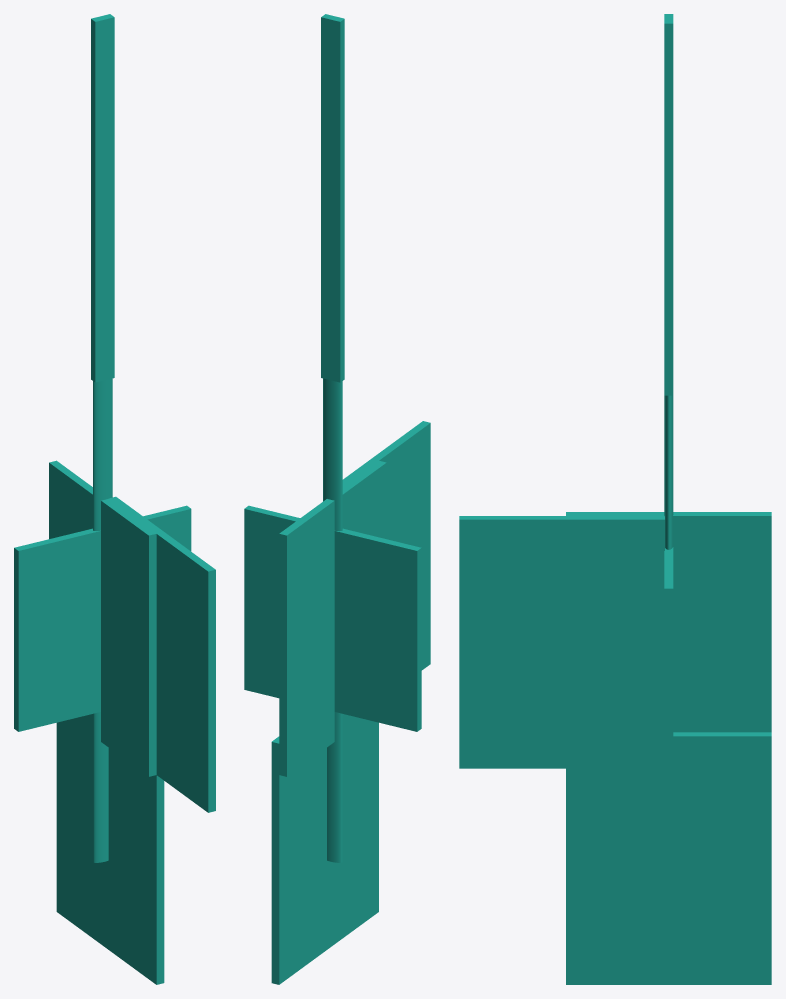
The picture shows the model from 3 angles, left to right: view 1: azimuth 30°, elevation 25°; view 2: azimuth 150°, elevation 25°; view 3: azimuth 270°, elevation 25°; orthographic projection. The views are drawn at different scales.
Parts seen in each view (by area): view 1: backrest_attach, seat, backrest, backrest_attach2, leg1, leg1_attach2, leg1_attach; view 2: seat, backrest_attach, backrest, backrest_attach2, leg1, leg1_attach2, leg1_attach; view 3: backrest_attach, backrest_attach2, backrest, seat, leg1_attach2, leg1_attach, leg1.
Boxes of the visible parts, x1,y1,x2,y2 form: backrest_attach: (56, 719, 164, 984); seat: (14, 505, 191, 731); backrest: (49, 460, 156, 776); backrest_attach2: (109, 496, 215, 812); leg1: (93, 378, 112, 862); leg1_attach2: (91, 14, 114, 202); leg1_attach: (91, 197, 114, 382); seat: (244, 505, 421, 731); backrest_attach: (271, 719, 378, 984); backrest: (279, 460, 386, 776); backrest_attach2: (342, 421, 430, 670); leg1: (323, 378, 342, 862); leg1_attach2: (321, 14, 344, 202); leg1_attach: (321, 197, 344, 382); backrest_attach: (566, 732, 771, 984); backrest_attach2: (459, 516, 664, 768); backrest: (566, 512, 771, 732); seat: (664, 547, 673, 774); leg1_attach2: (664, 14, 673, 210); leg1_attach: (664, 209, 673, 395); leg1: (664, 395, 673, 549).
Size of the model in its own units: 0.45 by 2.32 by 0.683.
